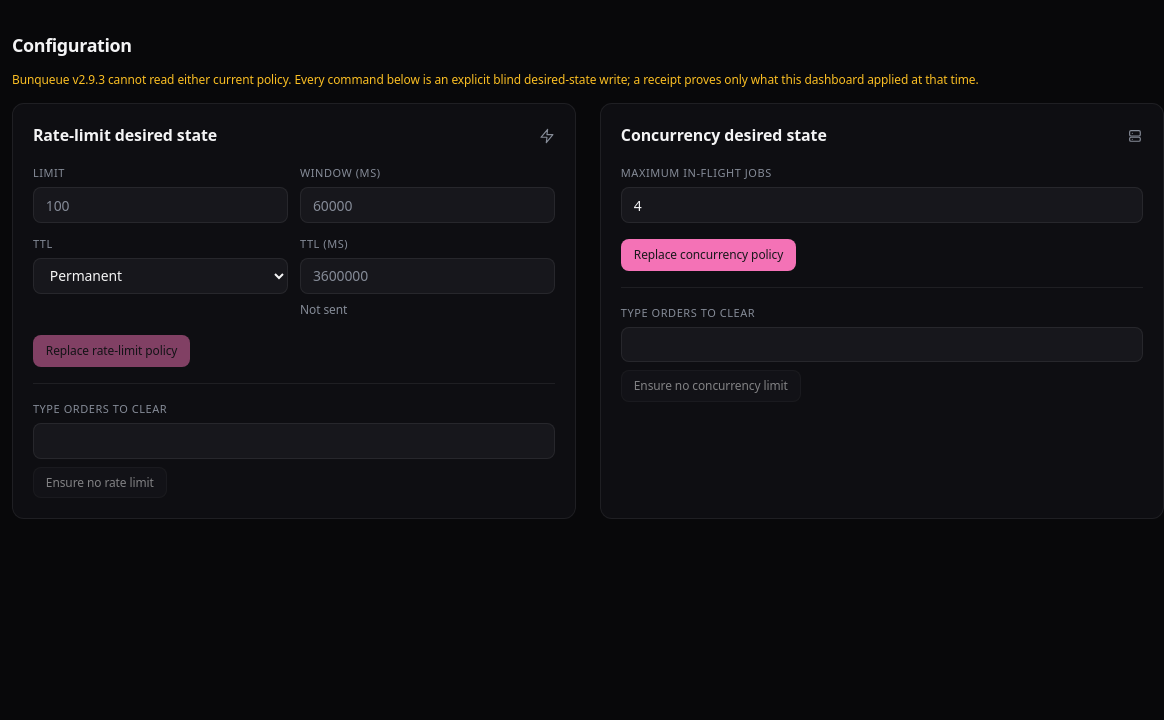
Test: classic QueueConfig desired-state writes › a valid ACK receipt says that current server state remains unreadable
What coordinates should you click on to do the following:
click the button "Replace concurrency policy"
I would click on:
 (708, 255)
Its box is [621, 239, 796, 271].
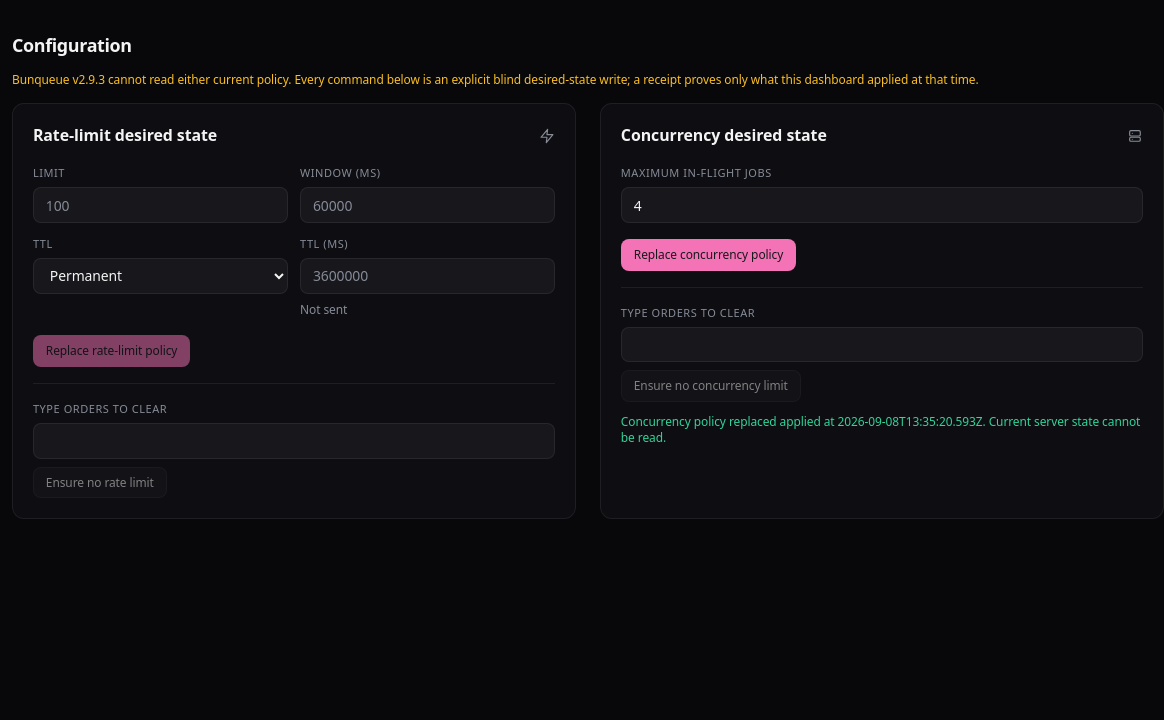
Result: the message shows "Concurrency policy replaced applied at" at [621, 413, 1140, 445]
Result: the message shows "Current server state cannot be read." at [621, 413, 1140, 445]
